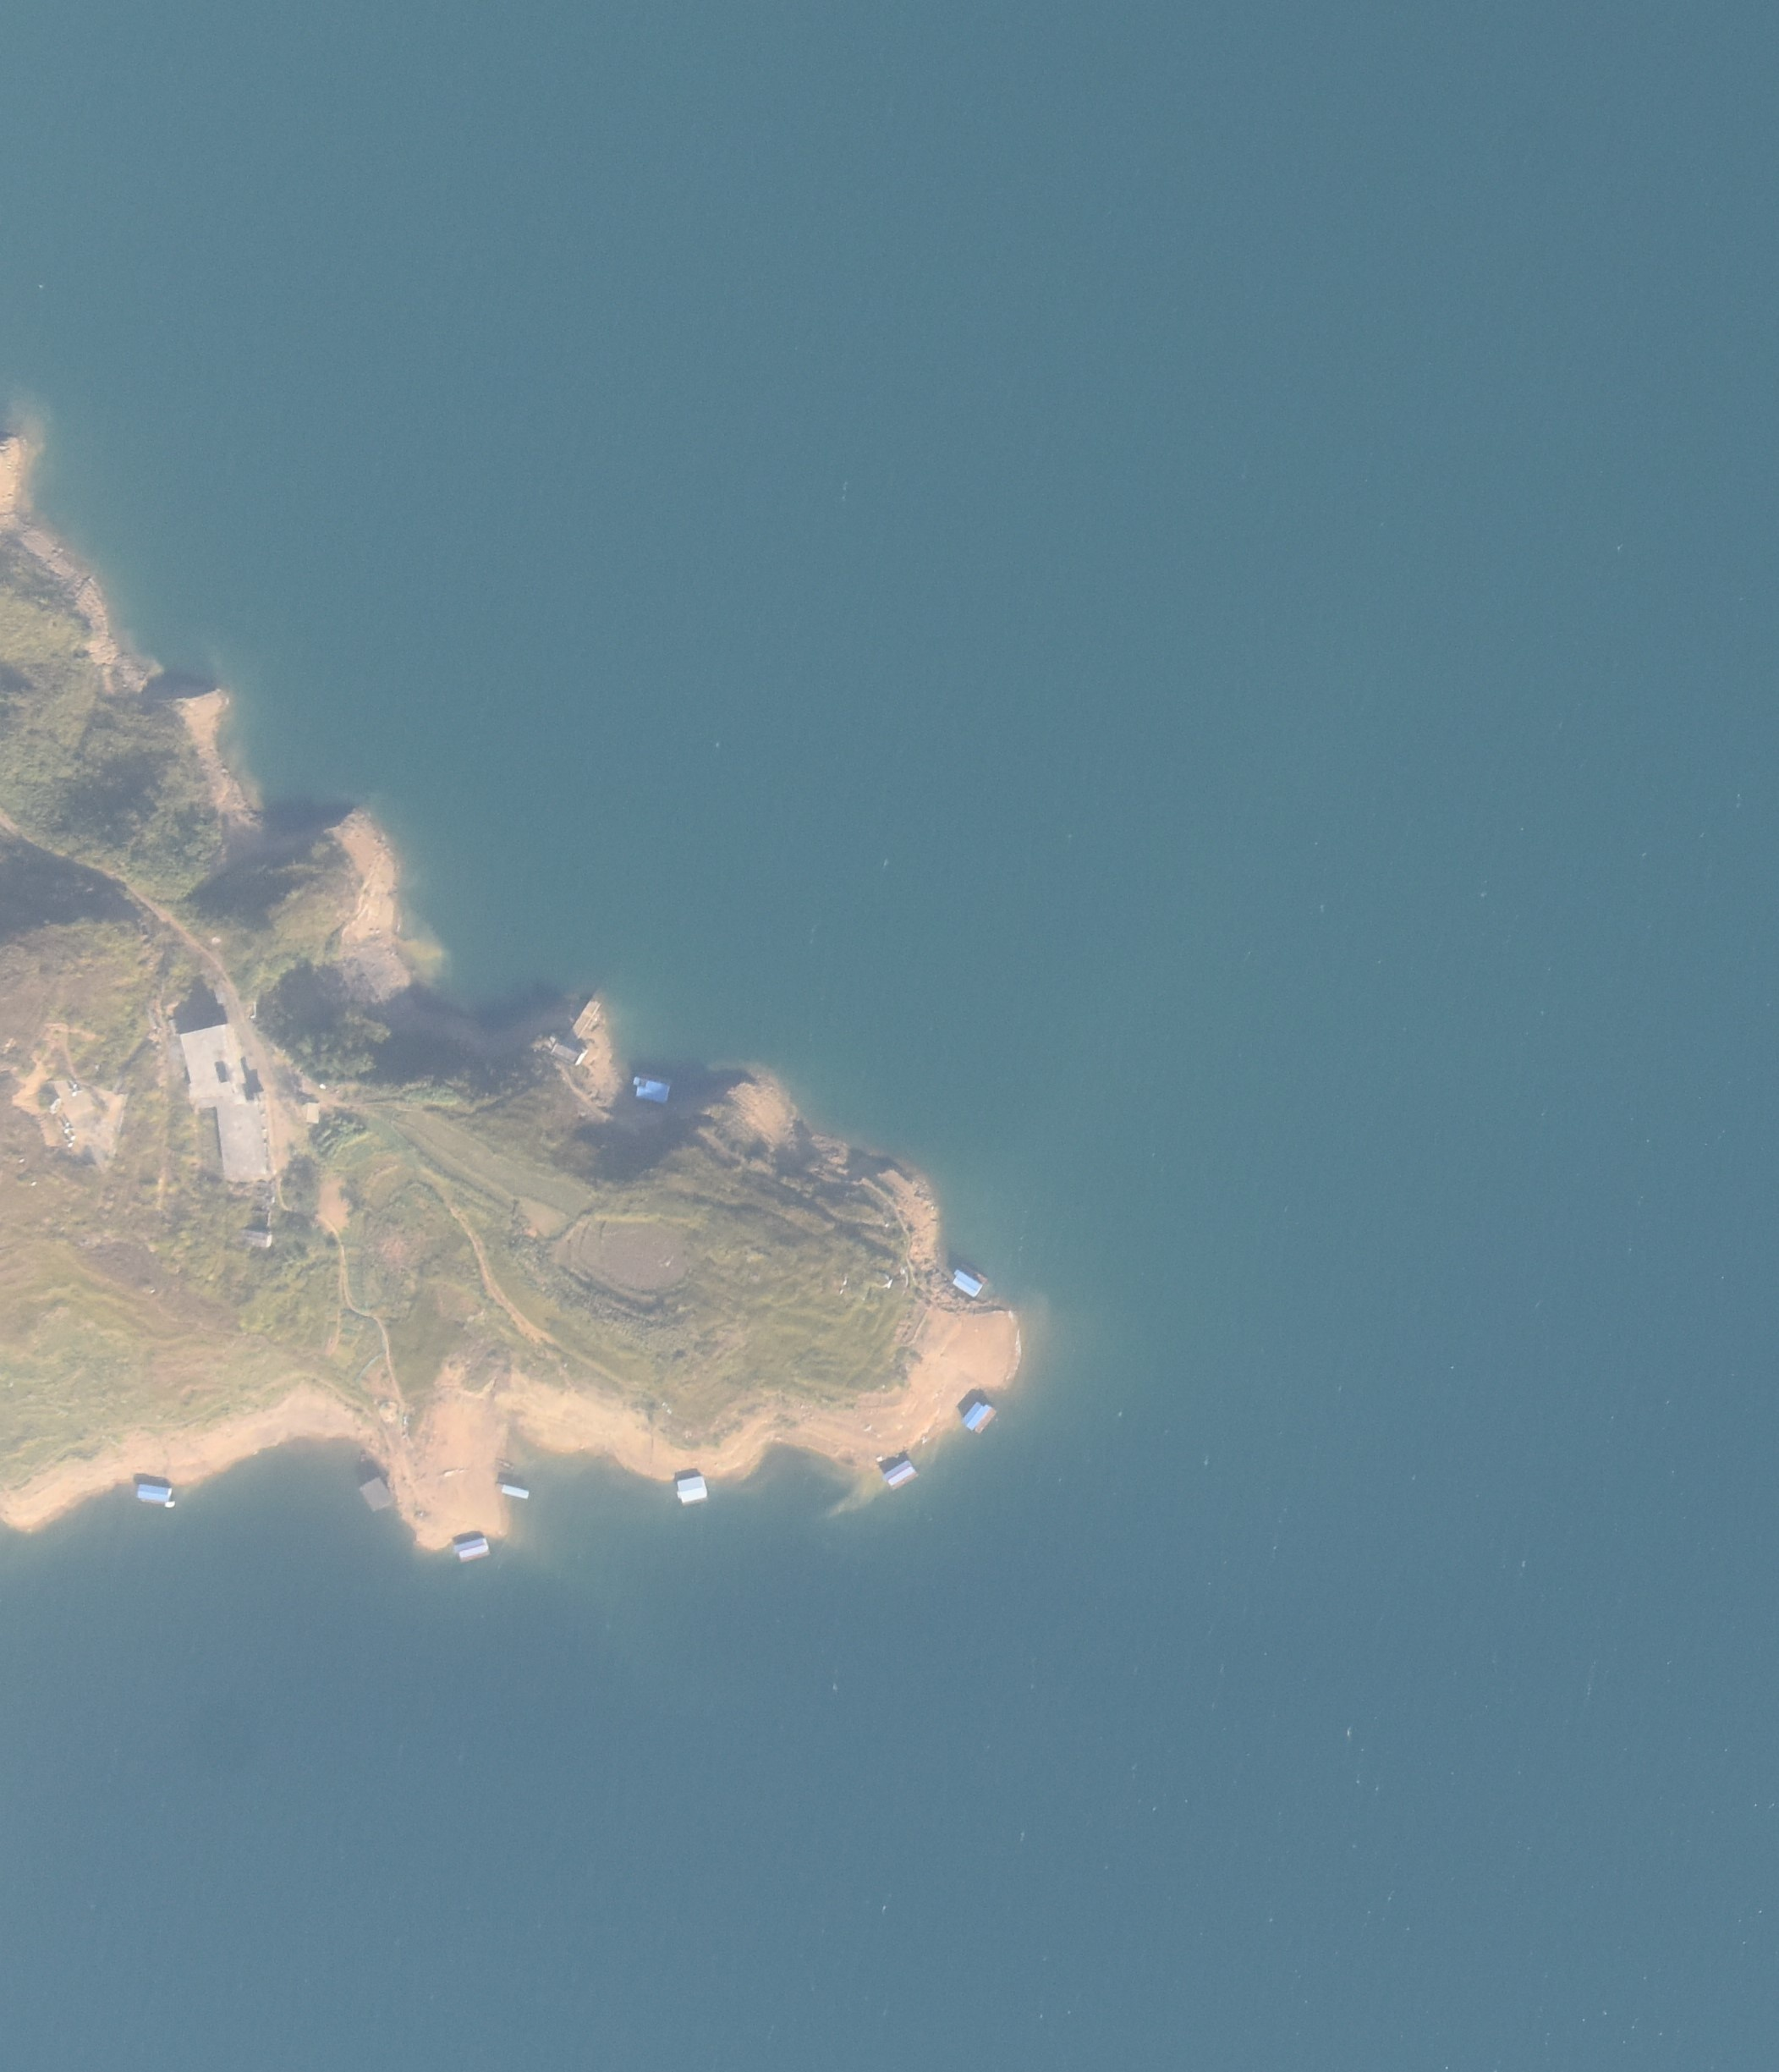building: (176, 1020, 247, 1108), (215, 1099, 271, 1179), (49, 1075, 102, 1138), (236, 1202, 275, 1256), (567, 995, 601, 1040), (551, 1041, 583, 1068), (301, 1101, 321, 1122)
prefabricated-house: (631, 1073, 673, 1106), (358, 1476, 395, 1513), (962, 1401, 995, 1432), (454, 1538, 491, 1565), (136, 1480, 173, 1506), (949, 1267, 981, 1297), (676, 1475, 708, 1505), (882, 1459, 914, 1485)
ship: (493, 1480, 534, 1501), (495, 1454, 520, 1475)
